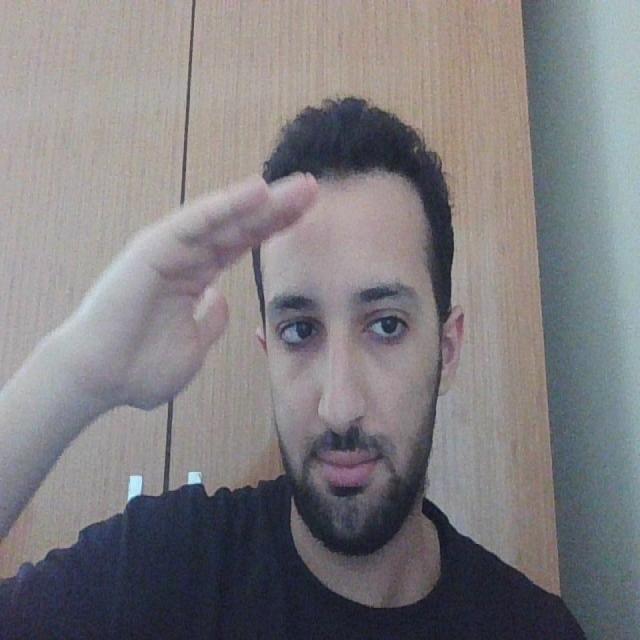Merhaba: (89, 148, 338, 455)
